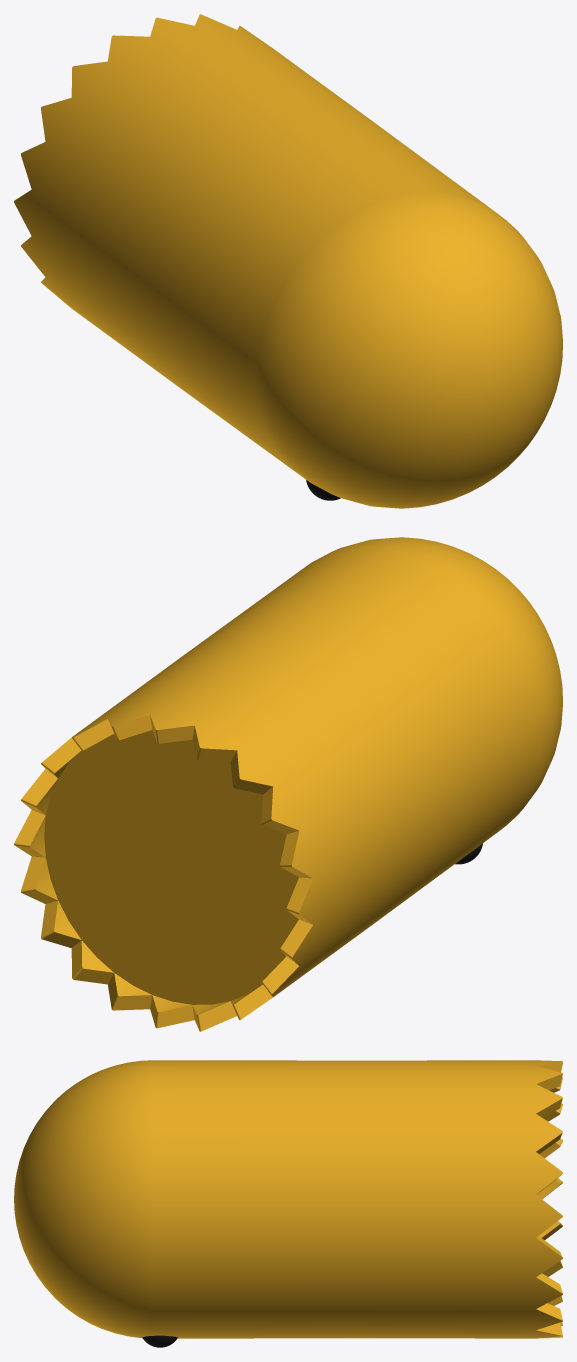
Rendered from Ghost yellow.fbx.
3 renders of one model, top to bottom at view 1: azimuth 30°, elevation 25°; view 2: azimuth 150°, elevation 25°; view 3: azimuth 270°, elevation 25°, orthographic. The views are drawn at different scales.
Visible parts, largest first — view 1: Body4; view 2: Body4; view 3: Body4.
Part boxes in pixels (x1,y1,x2,y2): Body4: (14, 14, 562, 508); Body4: (14, 537, 562, 1031); Body4: (14, 1060, 562, 1338).
Size of the model in its own units: 200 by 200 by 394.
